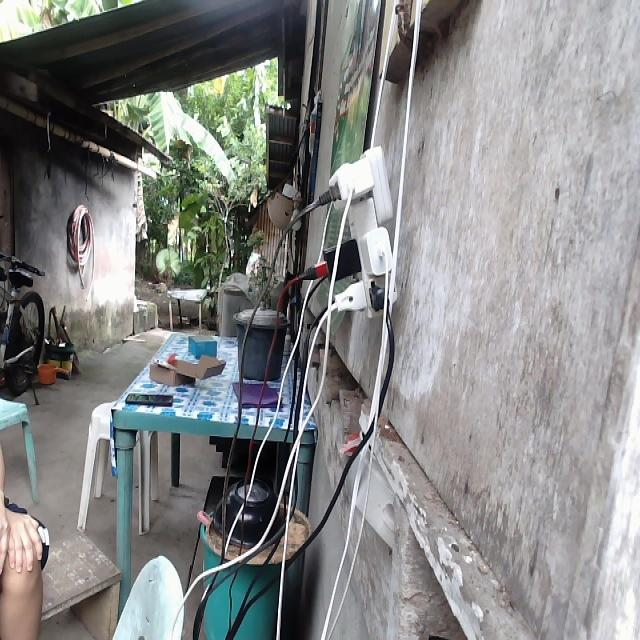-: (285, 136, 402, 356)
